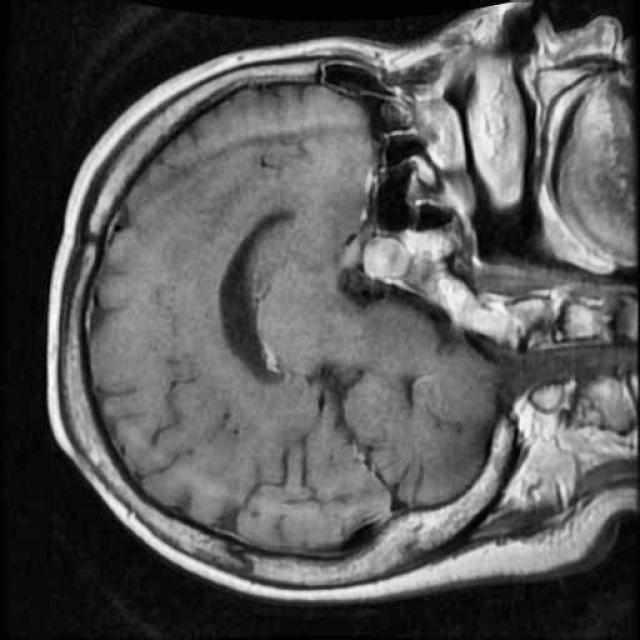Tumor: (345, 224, 416, 294)
